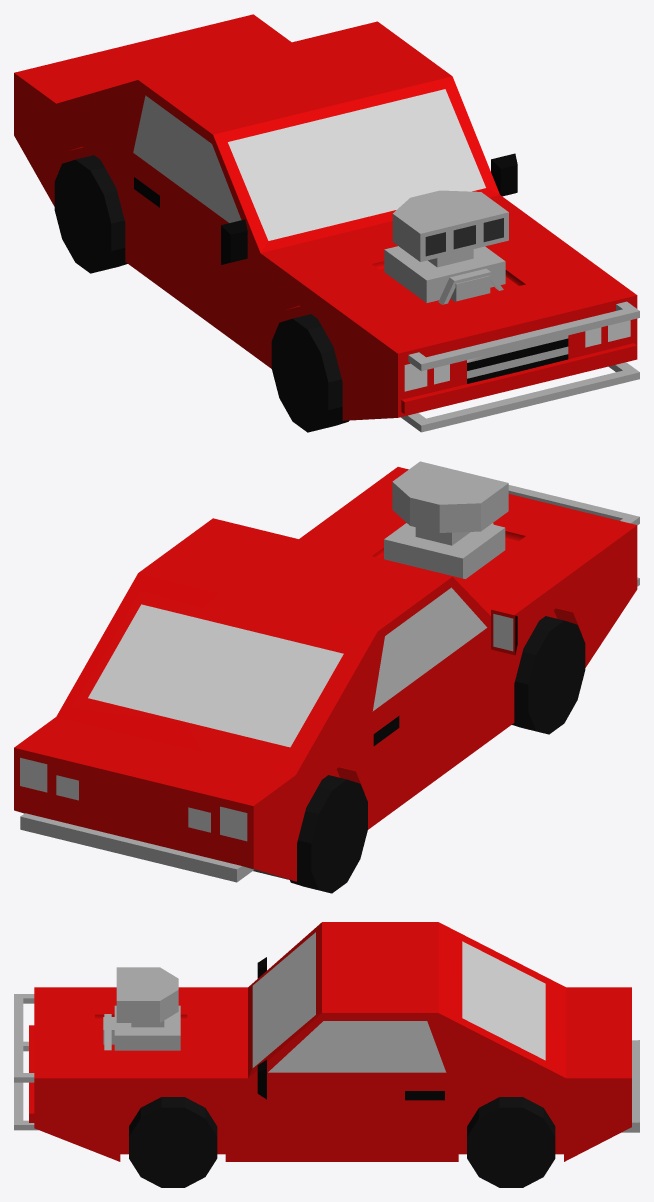
The model's file is derby_car.gltf.
The picture shows the model from 3 angles, top to bottom: view 1: azimuth 30°, elevation 25°; view 2: azimuth 150°, elevation 25°; view 3: azimuth 270°, elevation 25°; orthographic projection. The views are drawn at different scales.
Visible parts, largest first — view 1: DerbyCar, Wheel_FR.002, Wheel_RR.002; view 2: DerbyCar, Wheel_FR.002, Wheel_RR.002; view 3: DerbyCar, Wheel_FL, Wheel_RL.002.
Boxes of the visible parts, box(x1,y1,x2,y2) form: DerbyCar: box(14, 14, 639, 432); Wheel_FR.002: box(271, 314, 348, 432); Wheel_RR.002: box(54, 155, 127, 273); DerbyCar: box(14, 461, 639, 882); Wheel_FR.002: box(512, 616, 585, 734); Wheel_RR.002: box(290, 775, 367, 893); DerbyCar: box(14, 922, 639, 1161); Wheel_FL: box(129, 1097, 217, 1187); Wheel_RL.002: box(467, 1097, 555, 1187).
Size of the model in its own units: 3.33 by 2.38 by 7.86.
